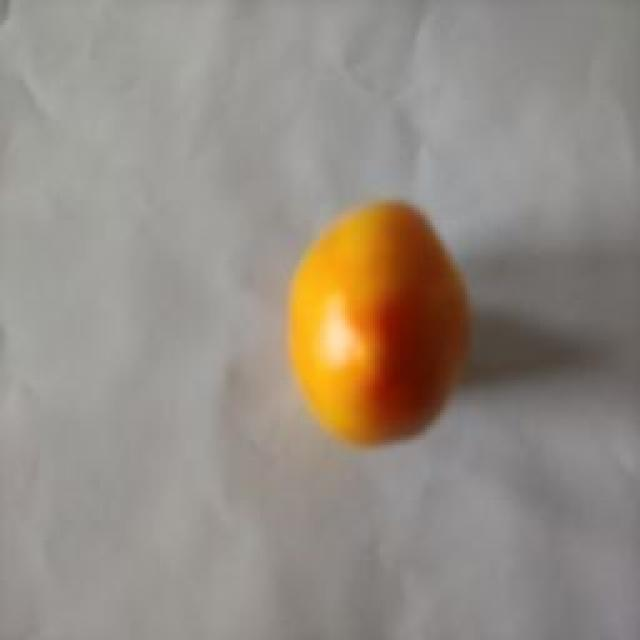unripe: (115, 38, 507, 408)
